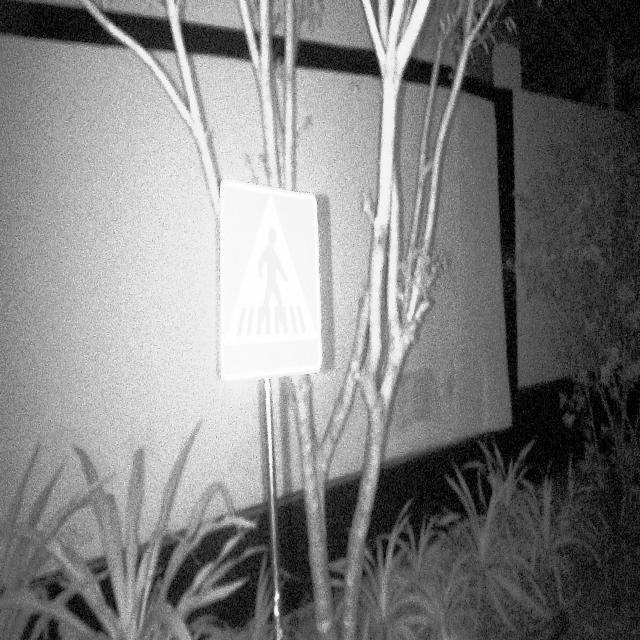Sign: (219, 177, 325, 385)
